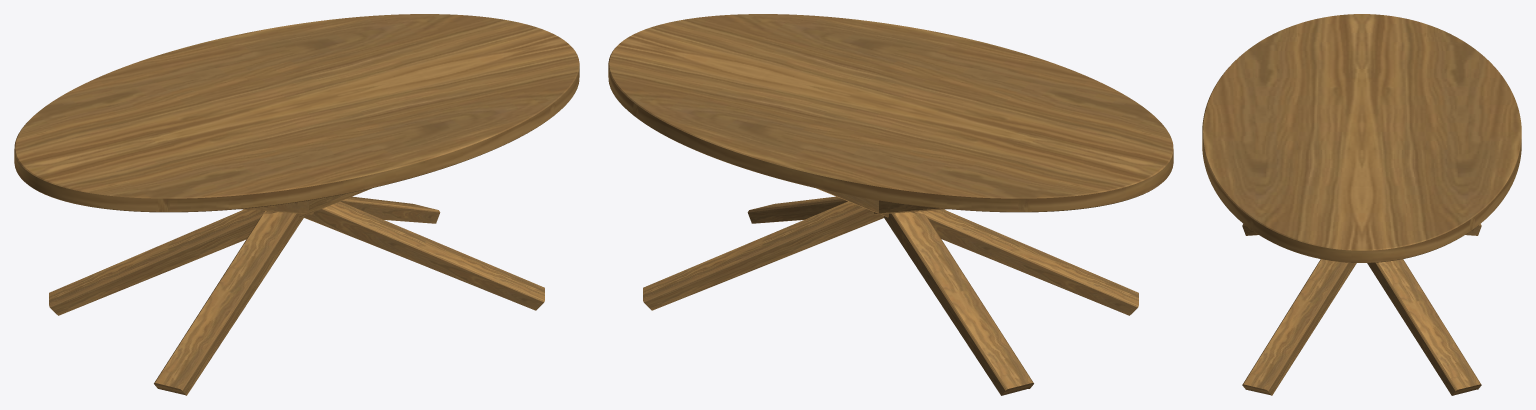
File: ellipse-elm.glb
The picture shows the model from 3 angles, left to right: view 1: azimuth 30°, elevation 25°; view 2: azimuth 150°, elevation 25°; view 3: azimuth 270°, elevation 25°; orthographic projection. The views are drawn at different scales.
Parts seen in each view (by area): view 1: Wood_Ellipse, Base_Ellipse; view 2: Wood_Ellipse, Base_Ellipse; view 3: Wood_Ellipse, Base_Ellipse.
Boxes of the visible parts, left/top/right/bottom form: Wood_Ellipse: left=14, top=14, right=579, bottom=212; Base_Ellipse: left=49, top=188, right=544, bottom=395; Wood_Ellipse: left=608, top=14, right=1173, bottom=212; Base_Ellipse: left=643, top=188, right=1138, bottom=395; Wood_Ellipse: left=1202, top=14, right=1521, bottom=262; Base_Ellipse: left=1242, top=224, right=1481, bottom=395.
Size of the model in its own units: 2.13 by 0.762 by 1.22.
1 material, 1 textured.
